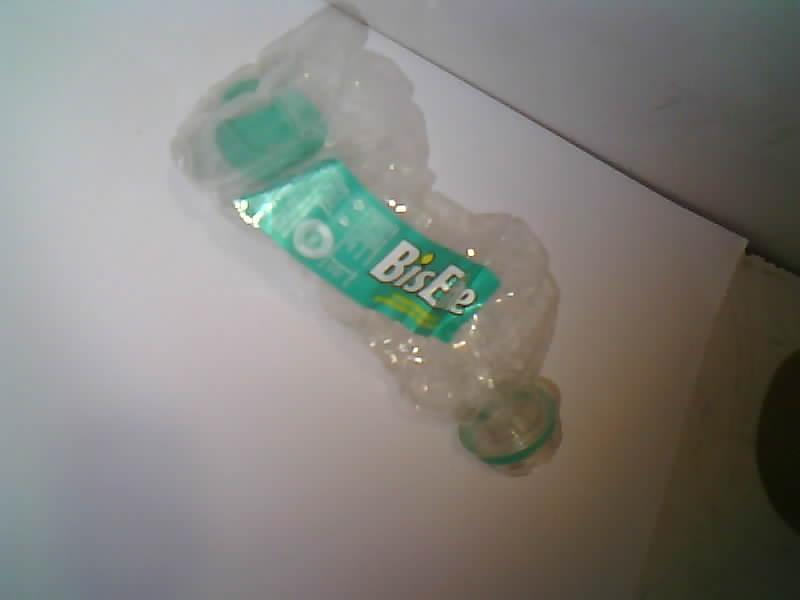non-biodegradable: (172, 9, 559, 474)
